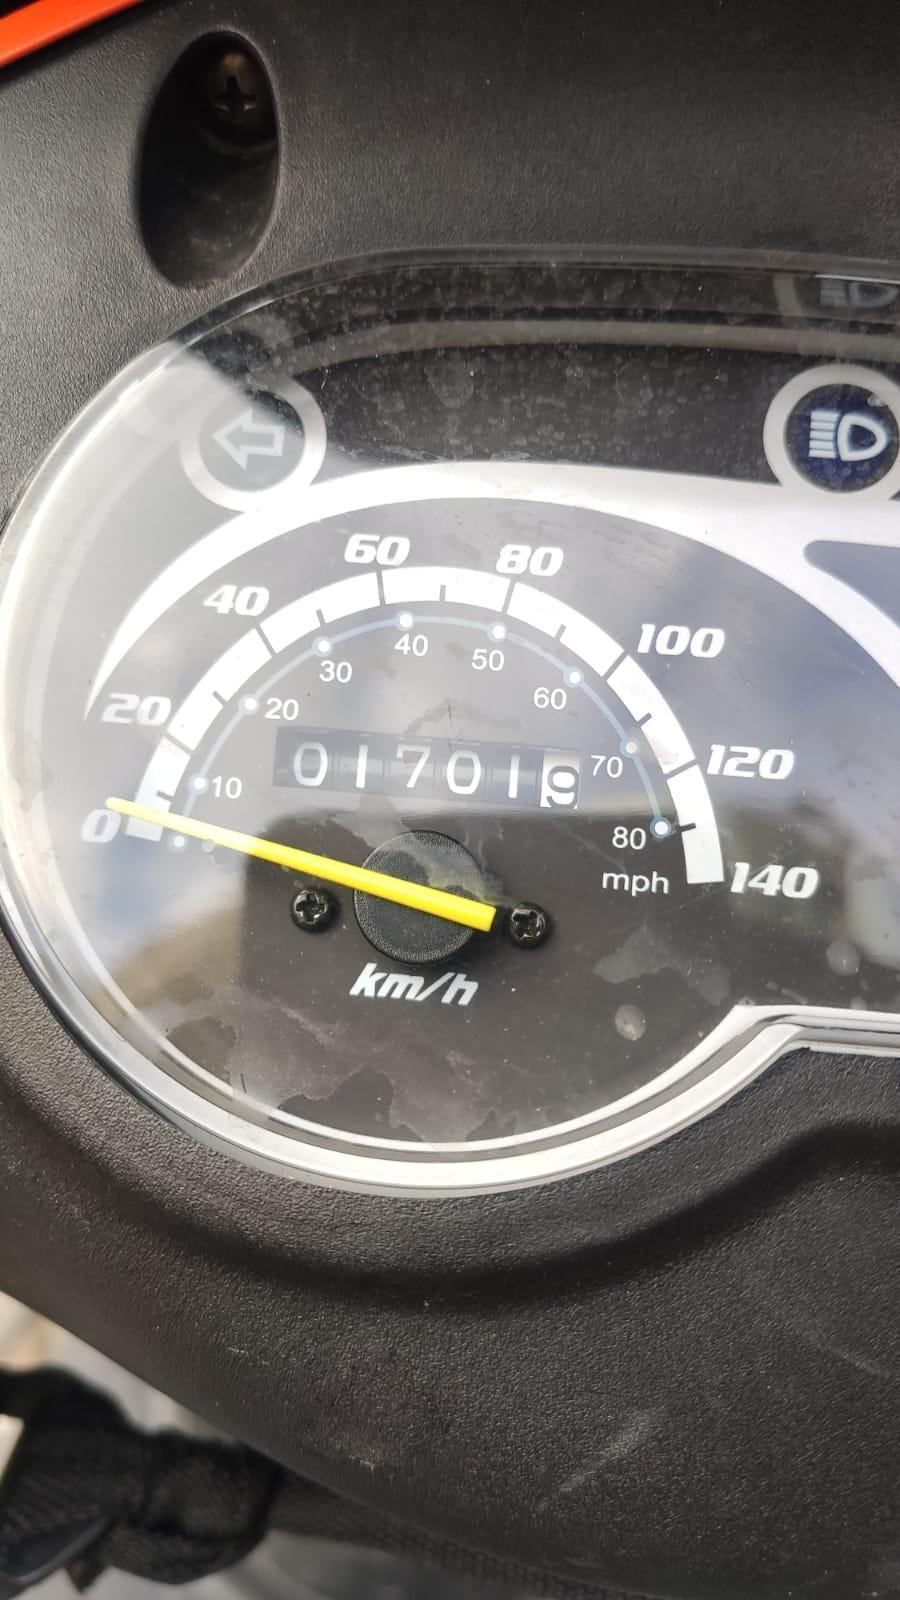0: (443, 747, 484, 797), (290, 737, 330, 788)
1: (501, 749, 525, 800), (349, 741, 373, 791)
7: (392, 741, 431, 791)
9: (544, 763, 580, 811)
odometer: (266, 719, 588, 814)
